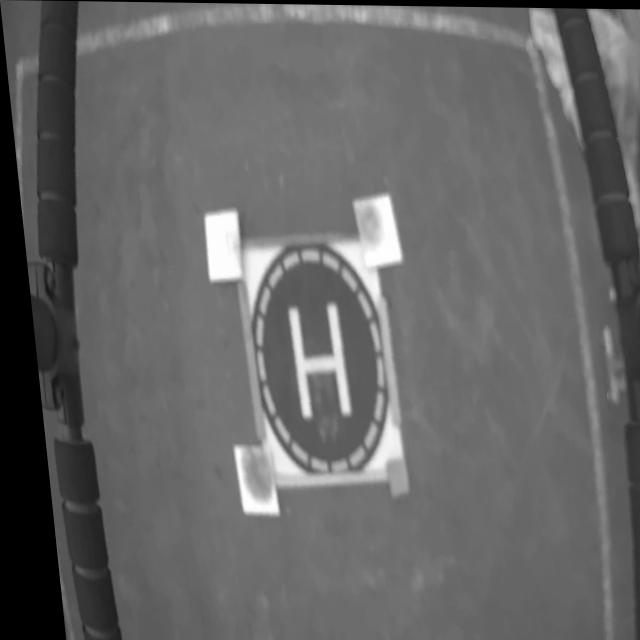Helipad: (281, 304, 345, 421)
